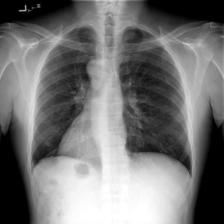normal: (28, 18, 198, 180)
